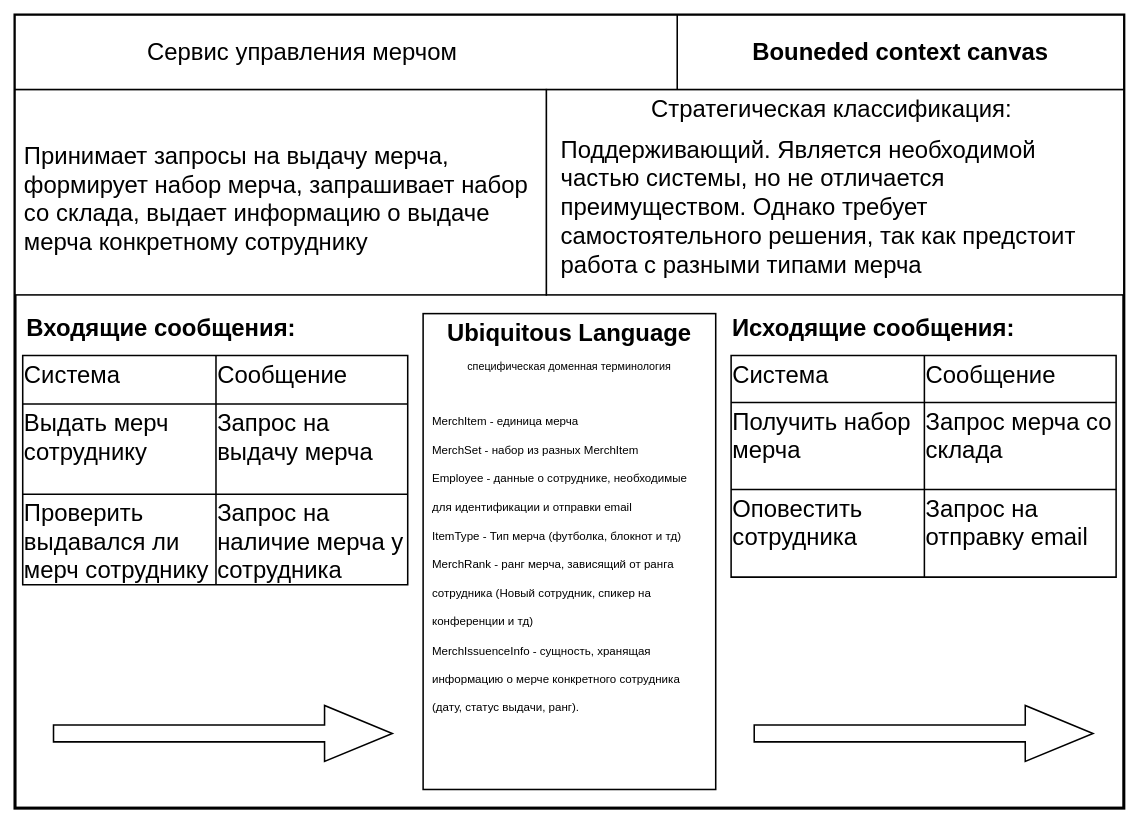
Image size: 1138x822. Some labels were removed from this diagram. The box of each missing label's shape, as (x1, y1, x2, y2) in pixels:
Название:: (14, 14, 678, 90)
Описание:: (14, 88, 547, 295)
